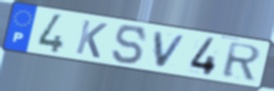4: (36, 12, 67, 55), (187, 36, 218, 77)
K: (73, 18, 109, 60)
R: (220, 40, 263, 82)
S: (111, 24, 148, 66)
V: (152, 31, 189, 70)
